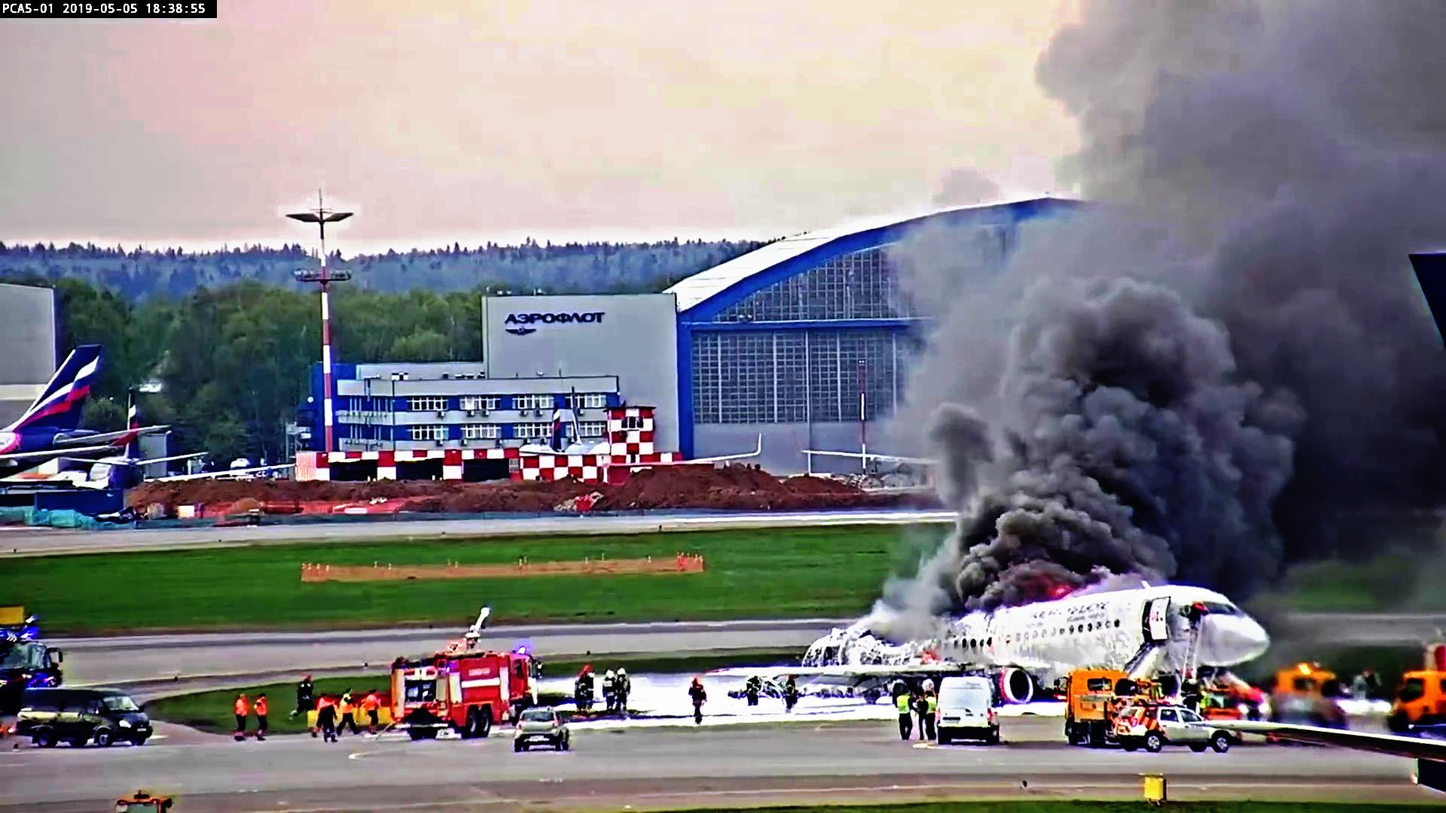smoke: (947, 261, 1314, 604)
